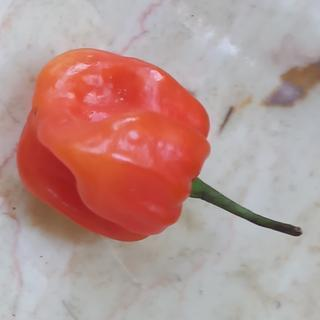Grade-B: (5, 36, 216, 246)
